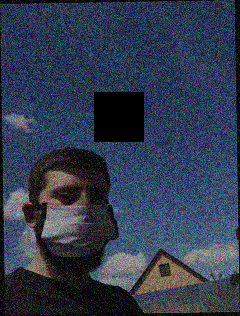with_mask: (41, 179, 118, 272)
